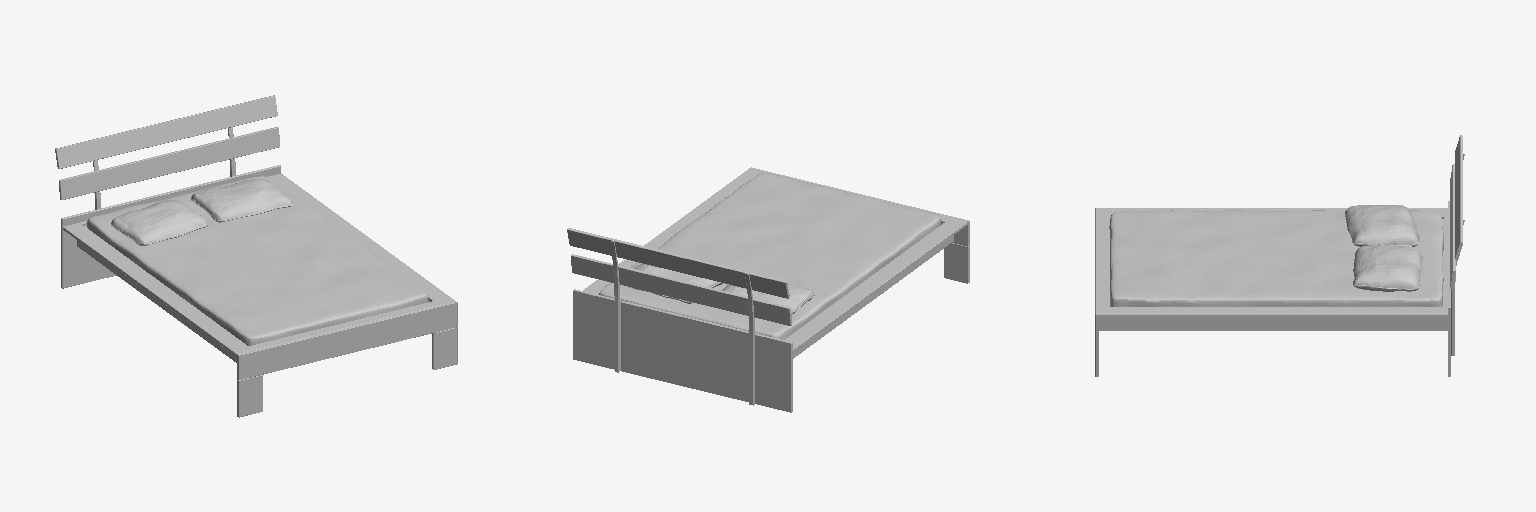
The model's file is Bed 04.obj.
The picture shows the model from 3 angles: view 1: azimuth 30°, elevation 25°; view 2: azimuth 150°, elevation 25°; view 3: azimuth 270°, elevation 25°; orthographic projection.
Parts seen in each view (by area): view 1: obj_01, obj_06, obj_08, obj_12, obj_07, obj_05, obj_02, obj_09; view 2: obj_01, obj_06, obj_08, obj_07, obj_12, obj_09, obj_02, obj_11, obj_10, obj_05; view 3: obj_01, obj_08, obj_09, obj_05, obj_02, obj_06, obj_12, obj_07.
Boxes of the visible parts, x1=… form: obj_01: x1=87, y1=176, x2=427, y2=345; obj_06: x1=61, y1=165, x2=457, y2=417; obj_08: x1=63, y1=173, x2=454, y2=356; obj_12: x1=55, y1=95, x2=277, y2=168; obj_07: x1=59, y1=127, x2=279, y2=199; obj_05: x1=191, y1=179, x2=292, y2=222; obj_02: x1=111, y1=200, x2=207, y2=245; obj_09: x1=77, y1=240, x2=429, y2=362; obj_01: x1=599, y1=173, x2=940, y2=339; obj_06: x1=573, y1=167, x2=969, y2=412; obj_08: x1=583, y1=169, x2=967, y2=351; obj_07: x1=571, y1=254, x2=791, y2=325; obj_12: x1=567, y1=228, x2=789, y2=298; obj_09: x1=793, y1=235, x2=953, y2=358; obj_02: x1=722, y1=284, x2=814, y2=313; obj_11: x1=745, y1=273, x2=754, y2=405; obj_10: x1=610, y1=241, x2=620, y2=372; obj_05: x1=626, y1=263, x2=722, y2=303; obj_01: x1=1109, y1=210, x2=1443, y2=306; obj_08: x1=1099, y1=208, x2=1447, y2=317; obj_09: x1=1099, y1=219, x2=1447, y2=330; obj_05: x1=1353, y1=245, x2=1423, y2=291; obj_02: x1=1345, y1=205, x2=1419, y2=246; obj_06: x1=1095, y1=201, x2=1450, y2=376; obj_12: x1=1455, y1=135, x2=1462, y2=260; obj_07: x1=1450, y1=164, x2=1455, y2=289.
Size of the model in its own units: 52.78 by 31.18 by 77.04.